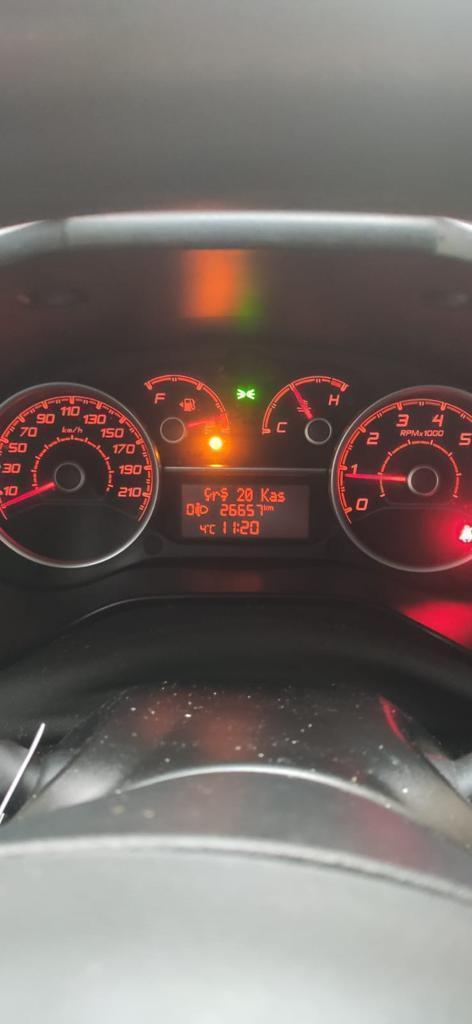0: (250, 519, 259, 535), (244, 487, 253, 501), (186, 503, 194, 516)
1: (232, 519, 236, 535), (223, 520, 227, 535)
2: (239, 519, 249, 535), (236, 487, 244, 501), (220, 503, 228, 516)
4: (199, 524, 207, 534)
5: (245, 503, 254, 516)
6: (237, 503, 245, 516), (228, 503, 236, 516)
7: (255, 503, 263, 516)
X: (260, 487, 269, 502), (203, 486, 212, 501), (220, 487, 229, 501), (277, 490, 286, 502), (211, 489, 220, 501), (269, 490, 277, 502), (209, 522, 216, 535), (268, 504, 274, 511), (263, 503, 267, 511), (236, 522, 239, 532)
odometer: (175, 477, 313, 542)
